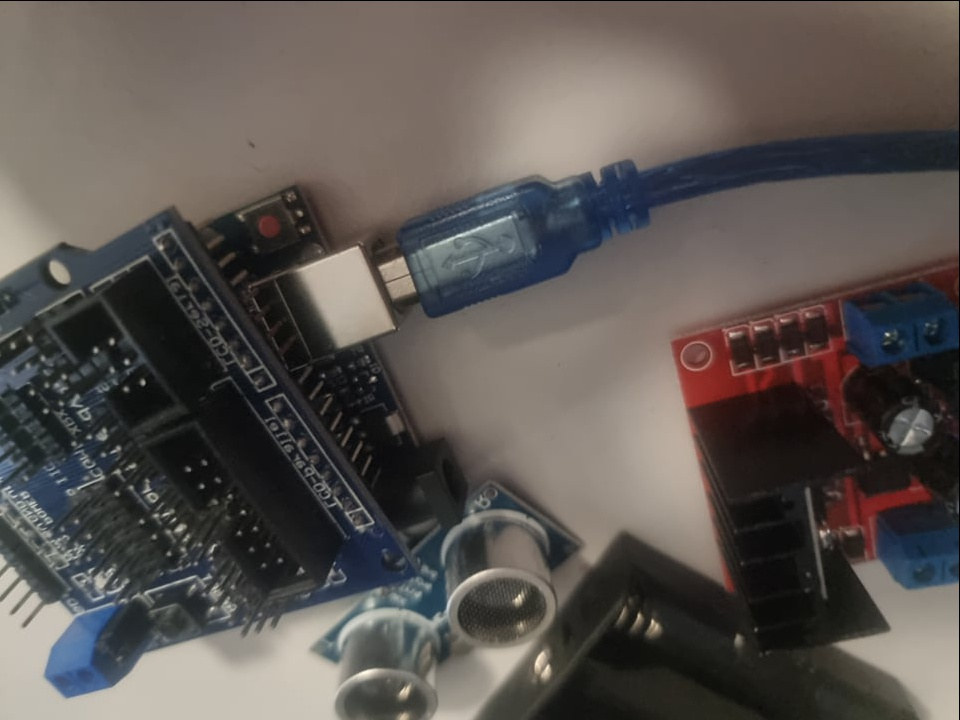5V EXPANSION: (1, 206, 422, 695)
MOTOR: (665, 264, 960, 656)
SENSOR: (312, 477, 584, 716)
UNO R3: (202, 173, 464, 524)
